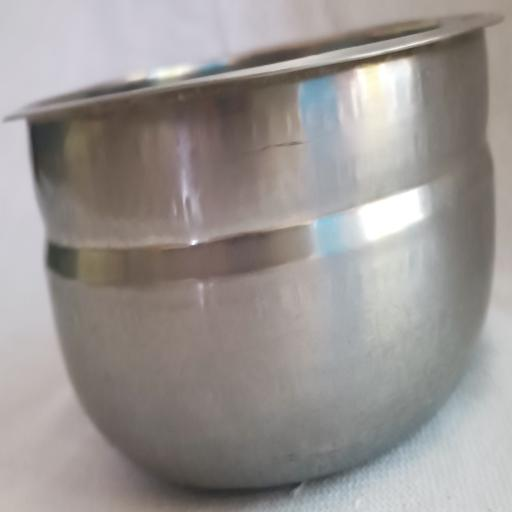vessel: (12, 15, 500, 487)
